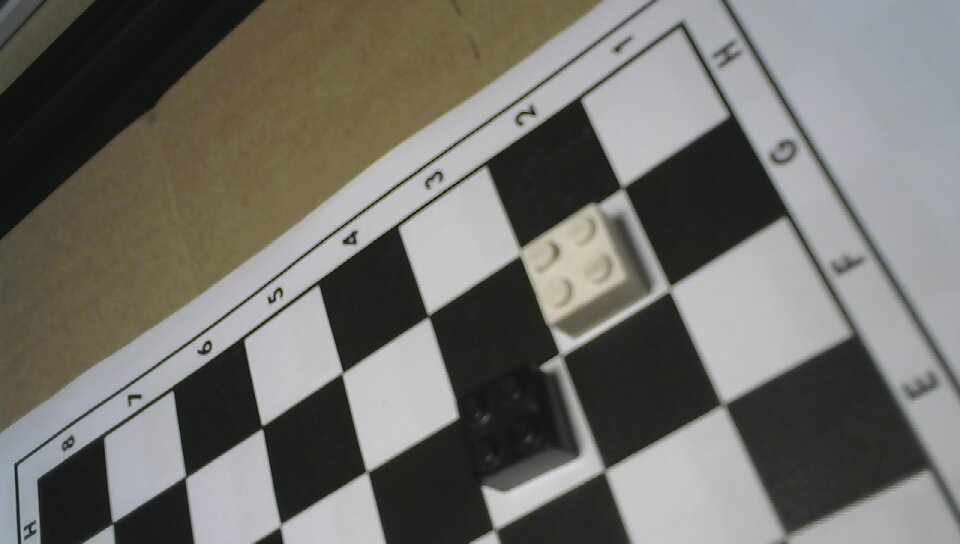wp: (516, 195, 655, 345)
